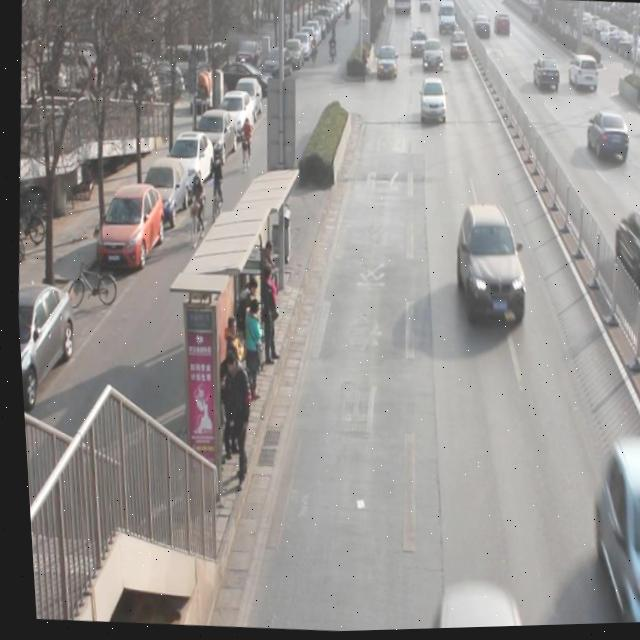car: (443, 204, 533, 335), (584, 446, 640, 627), (607, 212, 640, 297), (582, 111, 630, 165), (416, 79, 449, 127), (566, 55, 601, 98), (531, 59, 560, 95), (373, 43, 399, 83), (419, 41, 443, 74), (446, 31, 469, 63), (407, 28, 428, 61), (470, 17, 491, 41), (492, 13, 510, 39)
truck: (435, 4, 458, 36)
